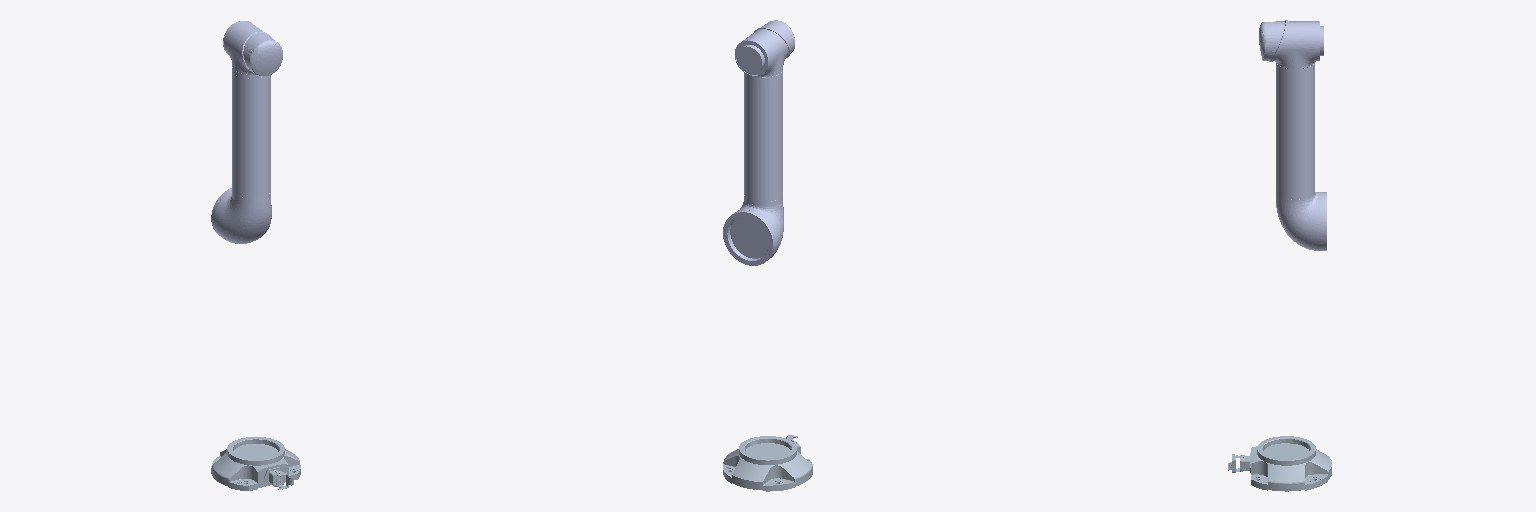
URDF robot description (gcr7_910):
<?xml version="1.0" encoding="utf-8"?>
<!-- This URDF was automatically created by SolidWorks to URDF Exporter! Originally created by [author] ([email redacted]) 
     Commit Version: 1.6.0-4-g7f85cfe  Build Version: 1.6.7995.38578
     For more information, please see http://wiki.ros.org/sw_urdf_exporter -->
<robot
  name="gcr7_910">
  <link
    name="base_link">
    <inertial>
      <origin
        xyz="-5.7382E-18 0.011758 0.021995"
        rpy="0 0 0" />
      <mass
        value="0" />
      <inertia
        ixx="0.0"
        ixy="0.0"
        ixz="0.0"
        iyy="0.0"
        iyz="0.0"
        izz="0.0" />
    </inertial>
    <visual>
      <origin
        xyz="0 0 0"
        rpy="0 0 0" />
      <geometry>
        <mesh
          filename="package://duco_support/meshes/GCR7_910/base_link.stl" />
      </geometry>
      <material
        name="">
        <color
          rgba="0.73333 0.78039 0.83922 1" />
      </material>
    </visual>
    <collision>
      <origin
        xyz="0 0 0"
        rpy="0 0 0" />
      <geometry>
        <mesh
          filename="package://duco_support/meshes/GCR7_910/base_link.stl" />
      </geometry>
    </collision>
  </link>
  <link
    name="link_1">
    <inertial>
      <origin
        xyz="0.000021 0.004967 -0.01790"
        rpy="0 0 0" />
      <mass
        value="4.657" />
      <inertia
        ixx="1.0752E-05"
        ixy="7.523E-09"
        ixz="1.0743E-08"
        iyy="1.0133197E-05"
        iyz="4.49349E-07"
        izz="7.870754E-05" />
    </inertial>
    <visual>
      <origin
        xyz="0 0 0"
        rpy="0 0 0" />
      <geometry>
        <mesh
          filename="package://duco_support/meshes/GCR7_910/link_1.stl" />
      </geometry>
      <material
        name="">
        <color
          rgba="0.79216 0.81961 0.93333 1" />
      </material>
    </visual>
    <collision>
      <origin
        xyz="0 0 0"
        rpy="0 0 0" />
      <geometry>
        <mesh
          filename="package://duco_support/meshes/GCR7_910/link_1.stl" />
      </geometry>
    </collision>
  </link>
  <joint
    name="arm_1_joint_1"
    type="revolute">
    <origin
      xyz="0 0 0.122"
      rpy="0 0 0" />
    <parent
      link="base_link" />
    <child
      link="link_1" />
    <axis
      xyz="0 0 1" />
    <limit
      lower="-3.1415926"
      upper="3.1415926"
      effort="194"
      velocity="3.926990817" />
  </joint>
  <link
    name="link_2">
    <inertial>
      <origin
        xyz="0.21612 -1.8576E-16 0.014189"
        rpy="0 0 0" />
      <mass
        value="3.3497" />
      <inertia
        ixx="0.0069086"
        ixy="8.2574E-08"
        ixz="9.7307E-18"
        iyy="0.022883"
        iyz="2.8358E-18"
        izz="0.024046" />
    </inertial>
    <visual>
      <origin
        xyz="0 0 0"
        rpy="0 0 0" />
      <geometry>
        <mesh
          filename="package://duco_support/meshes/GCR7_910/link_2.stl" />
      </geometry>
      <material
        name="">
        <color
          rgba="0.79216 0.81961 0.93333 1" />
      </material>
    </visual>
    <collision>
      <origin
        xyz="0 0 0"
        rpy="0 0 0" />
      <geometry>
        <mesh
          filename="package://duco_support/meshes/GCR7_910/link_2.stl" />
      </geometry>
    </collision>
  </link>
  <joint
    name="arm_1_joint_2"
    type="revolute">
    <origin
      xyz="0 0.1445 0"
      rpy="1.5708 -1.5708 3.1416" />
    <parent
      link="link_1" />
    <child
      link="link_2" />
    <axis
      xyz="0 0 1" />
    <limit
      lower="-3.1415926"
      upper="3.1415926"
      effort="194"
      velocity="3.926990817" />
  </joint>
  <link
    name="link_3">
    <inertial>
      <origin
        xyz="0.10177 2.95E-08 -0.11478"
        rpy="0 0 0" />
      <mass
        value="2.9857" />
      <inertia
        ixx="0.0035253"
        ixy="-2.5122E-08"
        ixz="0.00038746"
        iyy="0.010268"
        iyz="2.8848E-09"
        izz="0.010609" />
    </inertial>
    <visual>
      <origin
        xyz="0 0 0"
        rpy="0 0 0" />
      <geometry>
        <mesh
          filename="package://duco_support/meshes/GCR7_910/link_3.stl" />
      </geometry>
      <material
        name="">
        <color
          rgba="0.79216 0.81961 0.93333 1" />
      </material>
    </visual>
    <collision>
      <origin
        xyz="0 0 0"
        rpy="0 0 0" />
      <geometry>
        <mesh
          filename="package://duco_support/meshes/GCR7_910/link_3.stl" />
      </geometry>
    </collision>
  </link>
  <joint
    name="arm_1_joint_3"
    type="revolute">
    <origin
      xyz="0.425 0 0"
      rpy="0 0 0" />
    <parent
      link="link_2" />
    <child
      link="link_3" />
    <axis
      xyz="0 0 1" />
    <limit
      lower="-3.1415926"
      upper="3.1415926"
      effort="194"
      velocity="3.926990817" />
  </joint>
  <link
    name="link_4">
    <inertial>
      <origin
        xyz="-7.7387E-07 0.0063161 -0.0061589"
        rpy="0 0 0" />
      <mass
        value="0.37228" />
      <inertia
        ixx="0.00048225"
        ixy="5.8826E-09"
        ixz="2.1987E-08"
        iyy="0.00055656"
        iyz="5.1696E-05"
        izz="0.00041144" />
    </inertial>
    <visual>
      <origin
        xyz="0 0 0"
        rpy="0 0 0" />
      <geometry>
        <mesh
          filename="package://duco_support/meshes/GCR7_910/link_4.stl" />
      </geometry>
      <material
        name="">
        <color
          rgba="0.73333 0.78039 0.83922 1" />
      </material>
    </visual>
    <collision>
      <origin
        xyz="0 0 0"
        rpy="0 0 0" />
      <geometry>
        <mesh
          filename="package://duco_support/meshes/GCR7_910/link_4.stl" />
      </geometry>
    </collision>
  </link>
  <joint
    name="arm_1_joint_4"
    type="revolute">
    <origin
      xyz="0.392 0 0"
      rpy="0 0 1.5708" />
    <parent
      link="link_3" />
    <child
      link="link_4" />
    <axis
      xyz="0 0 1" />
    <limit
      lower="-3.1415926"
      upper="3.1415926"
      effort="34"
      velocity="3.926990817" />
  </joint>
  <link
    name="link_5">
    <inertial>
      <origin
        xyz="7.731E-07 -0.008004 0.00087192"
        rpy="0 0 0" />
      <mass
        value="0.32906" />
      <inertia
        ixx="0.00034489"
        ixy="2.4698E-09"
        ixz="-2.3229E-08"
        iyy="0.00042119"
        iyz="-3.743E-05"
        izz="0.00034777" />
    </inertial>
    <visual>
      <origin
        xyz="0 0 0"
        rpy="0 0 0" />
      <geometry>
        <mesh
          filename="package://duco_support/meshes/GCR7_910/link_5.stl" />
      </geometry>
      <material
        name="">
        <color
          rgba="0.73333 0.78039 0.83922 1" />
      </material>
    </visual>
    <collision>
      <origin
        xyz="0 0 0"
        rpy="0 0 0" />
      <geometry>
        <mesh
          filename="package://duco_support/meshes/GCR7_910/link_5.stl" />
      </geometry>
    </collision>
  </link>
  <joint
    name="arm_1_joint_5"
    type="revolute">
    <origin
      xyz="0 -0.1 0"
      rpy="1.5708 0 0" />
    <parent
      link="link_4" />
    <child
      link="link_5" />
    <axis
      xyz="0 0 1" />
    <limit
      lower="-3.1415926"
      upper="3.1415926"
      effort="34"
      velocity="3.926990817" />
  </joint>
  <link
    name="link_6">
    <inertial>
      <origin
        xyz="-2.7264E-05 -0.0031969 -0.013722"
        rpy="0 0 0" />
      <mass
        value="0.19147" />
      <inertia
        ixx="0.00010193"
        ixy="-1.7257E-10"
        ixz="9.7552E-19"
        iyy="0.00010193"
        iyz="-7.9276E-20"
        izz="0.00018851" />
    </inertial>
    <visual>
      <origin
        xyz="0 0 0"
        rpy="0 0 0" />
      <geometry>
        <mesh
          filename="package://duco_support/meshes/GCR7_910/link_6.stl" />
      </geometry>
      <material
        name="">
        <color
          rgba="0 0 0 1" />
      </material>
    </visual>
    <collision>
      <origin
        xyz="0 0 0"
        rpy="0 0 0" />
      <geometry>
        <mesh
          filename="package://duco_support/meshes/GCR7_910/link_6.stl" />
      </geometry>
    </collision>
  </link>
  <joint
    name="arm_1_joint_6"
    type="revolute">
    <origin
      xyz="0 0.105 0"
      rpy="-1.5708 0 0" />
    <parent
      link="link_5" />
    <child
      link="link_6" />
    <axis
      xyz="0 0 1" />
    <limit
      lower="-3.1415926"
      upper="3.1415926"
      effort="34"
      velocity="3.926990817" />
  </joint>
</robot>

--- Render facts (derived) ---
3 views of the same robot in one strip: view 1: azimuth 30°, elevation 25°; view 2: azimuth 150°, elevation 25°; view 3: azimuth 270°, elevation 25° (orthographic).
Model gcr7_910 with 7 links and 6 joints (6 revolute), rooted at base_link, posed every joint at zero.
Links seen in each view (by area): view 1: link_3, base_link; view 2: link_3, base_link; view 3: link_3, base_link.
Link boxes in pixels (x1=…): link_3: x1=211, y1=21, x2=282, y2=243; base_link: x1=211, y1=437, x2=300, y2=490; link_3: x1=723, y1=20, x2=794, y2=265; base_link: x1=723, y1=435, x2=812, y2=491; link_3: x1=1259, y1=20, x2=1326, y2=250; base_link: x1=1228, y1=436, x2=1331, y2=491.
Bounding box of the posed robot: 0.18 × 0.2059 × 0.98 m (x, y, z).
2 mesh visuals loaded from 7 distinct referenced files (2 binary STL); not drawn: 5 (reference not matched to a file when rendering).